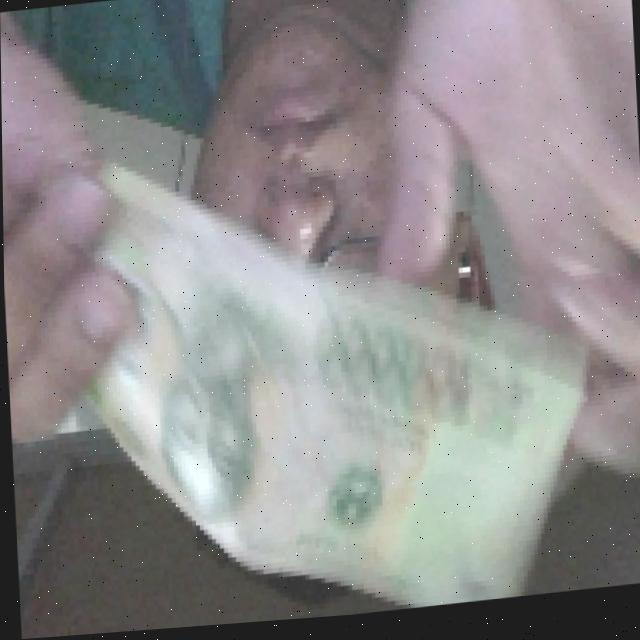100 000 VND: (53, 108, 601, 637)
